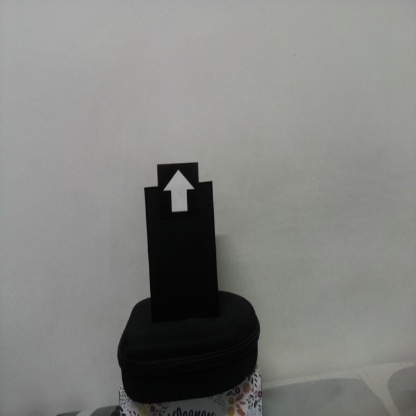id_1: (157, 164, 199, 226)
